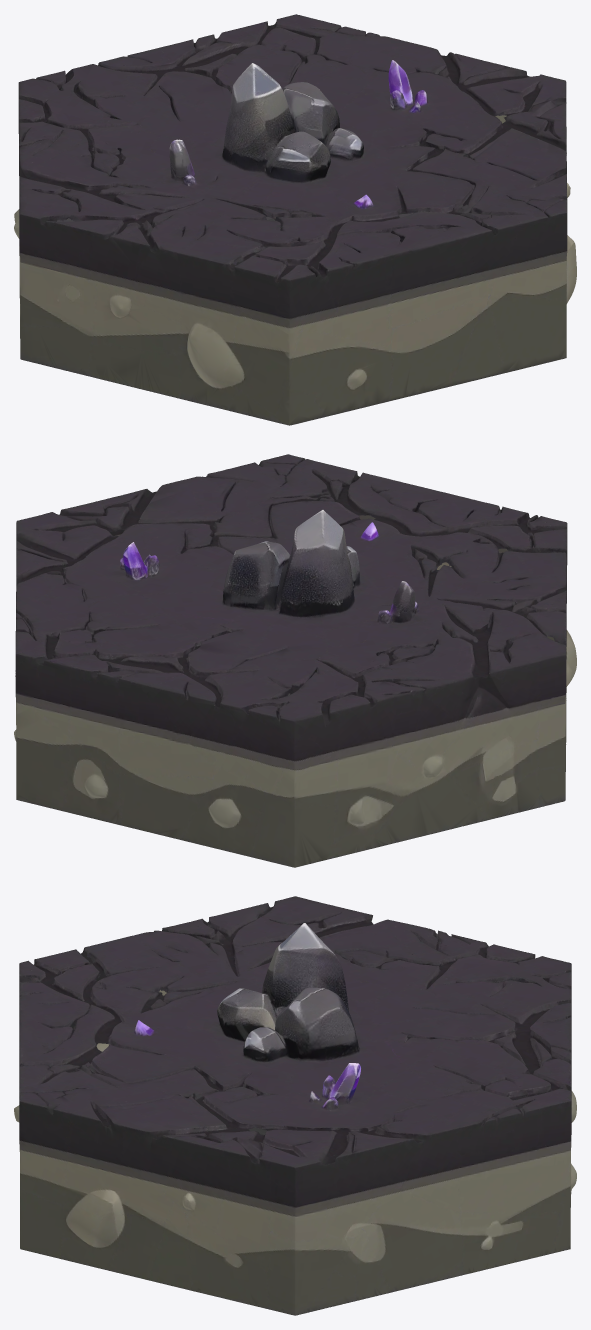
Rendered from obsidiantile_d.glb.
3 renders of one model, top to bottom at view 1: azimuth 30°, elevation 25°; view 2: azimuth 150°, elevation 25°; view 3: azimuth 270°, elevation 25°, orthographic.
Size of the model in its own units: 1.9 by 0.7889 by 1.66.
1 material, 1 textured.
